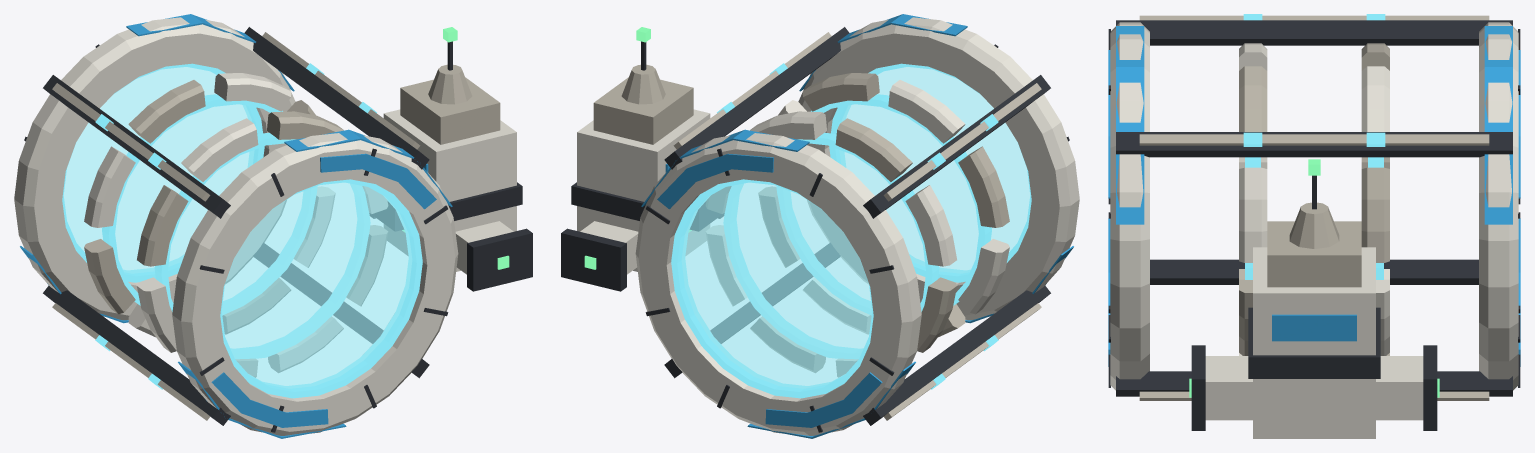
File: gate.glb
3 views of the same model, side by side, from view 1: azimuth 30°, elevation 25°; view 2: azimuth 150°, elevation 25°; view 3: azimuth 270°, elevation 25° (orthographic). The views are drawn at different scales.
Visible parts, largest first — view 1: Gate; view 2: Gate; view 3: Gate.
Part boxes in pixels (bbox=[...]): Gate: bbox=[14, 14, 532, 438]; Gate: bbox=[561, 14, 1079, 438]; Gate: bbox=[1108, 14, 1520, 438].
Size of the model in its own units: 3.9 by 2.72 by 3.01.
